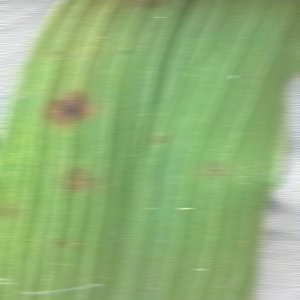Bacterial_Leaf_Blight: (38, 84, 99, 130), (54, 166, 96, 200), (207, 162, 226, 177), (119, 45, 138, 59), (54, 238, 69, 249)
